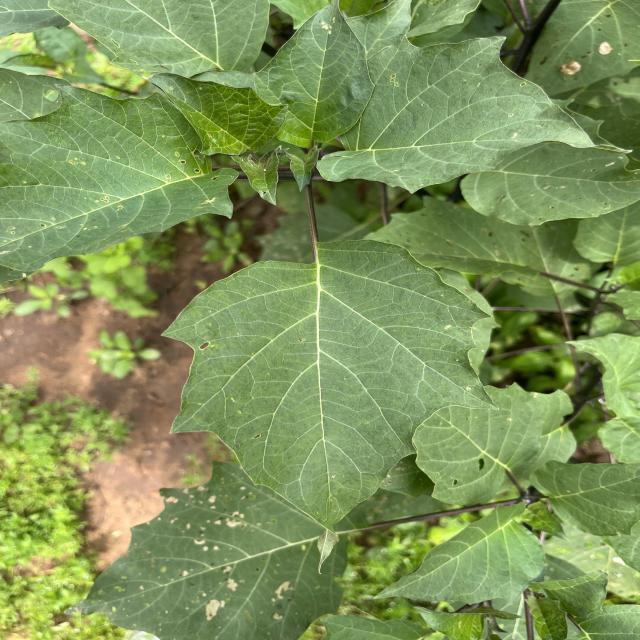Datura metal linn: (154, 231, 510, 581), (314, 32, 635, 196), (0, 80, 242, 276), (370, 500, 548, 608), (252, 0, 376, 150), (122, 62, 292, 157)
